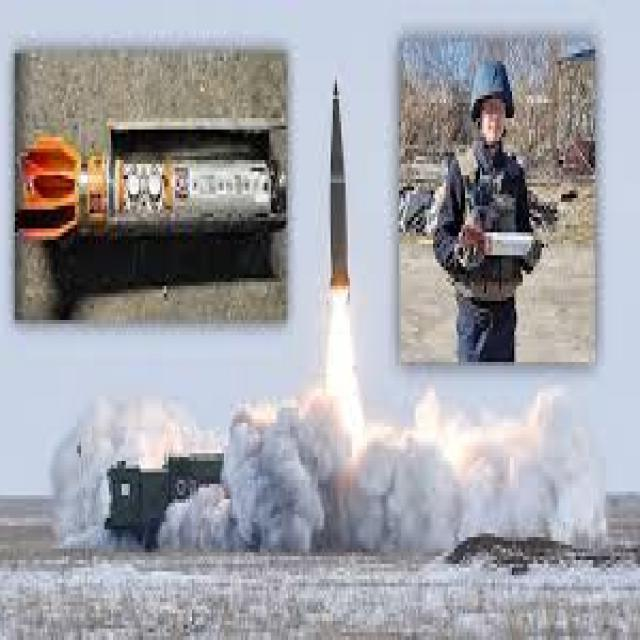Missile: (319, 72, 357, 314)
